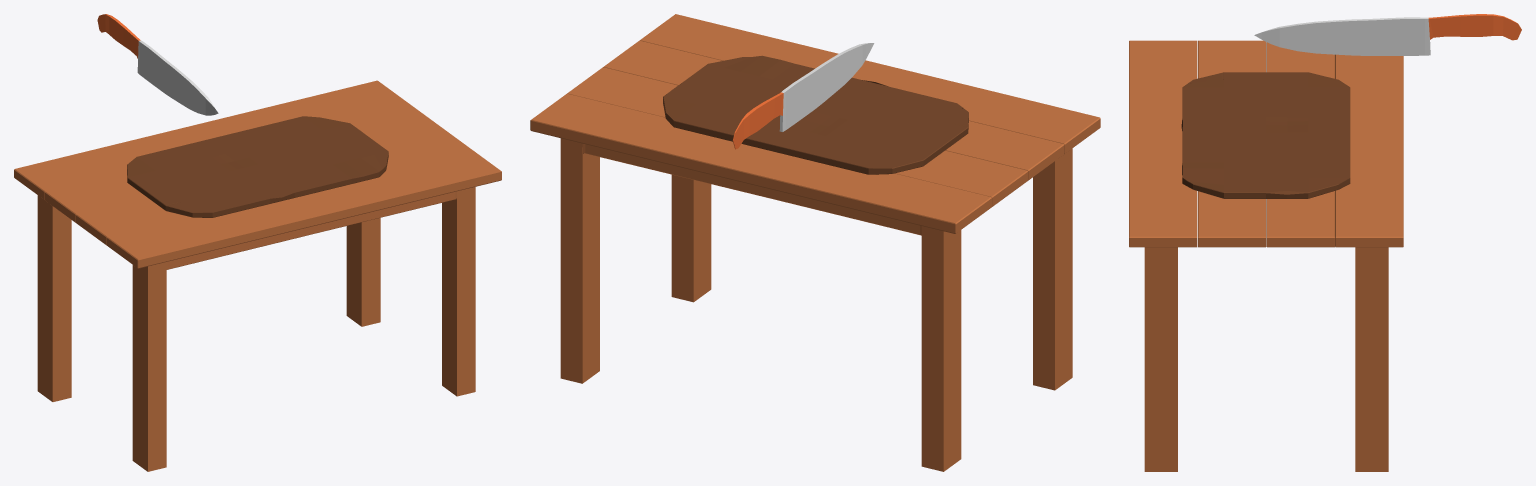
The model's file is pvap (5).fbx.
The picture shows the model from 3 angles, left to right: view 1: azimuth 30°, elevation 25°; view 2: azimuth 150°, elevation 25°; view 3: azimuth 270°, elevation 25°; orthographic projection. The views are drawn at different scales.
Visible parts, largest first — view 1: Cube.007, Cube.009, Cube.001; view 2: Cube.007, Cube.009, Cube.001; view 3: Cube.007, Cube.009, Cube.001.
Boxes of the visible parts, box(x1,y1,x2,y2) form: Cube.007: box(14, 80, 501, 471); Cube.009: box(127, 116, 388, 217); Cube.001: box(97, 14, 218, 115); Cube.007: box(530, 14, 1100, 471); Cube.009: box(663, 55, 968, 174); Cube.001: box(732, 43, 874, 149); Cube.007: box(1129, 40, 1403, 471); Cube.009: box(1181, 72, 1350, 198); Cube.001: box(1254, 14, 1521, 55).
Bounding box in the file's own units: 448 × 366 × 378.
